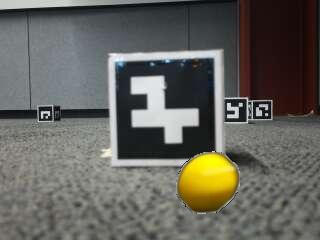lemon: (179, 155, 239, 213)
